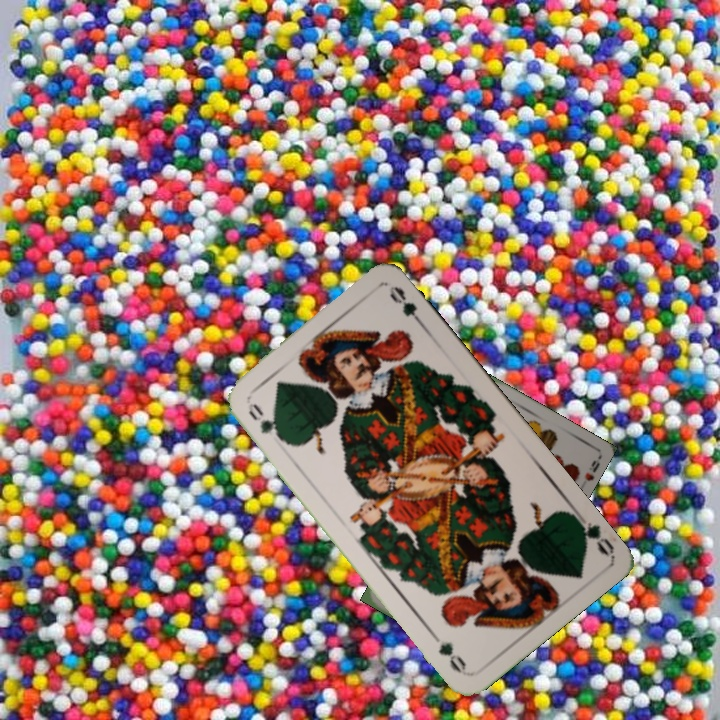GO: (566, 506, 617, 558), (244, 398, 288, 445)
